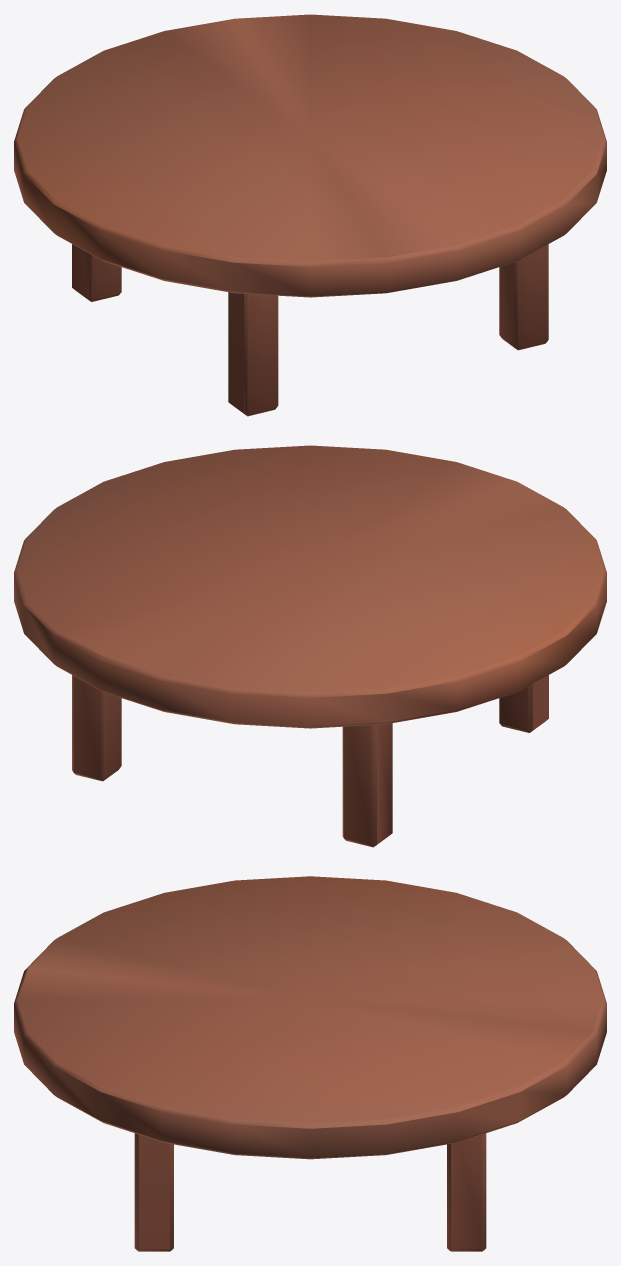
The model's file is kkr.table_round_b.glb.
3 views of the same model, one above another, from view 1: azimuth 30°, elevation 25°; view 2: azimuth 150°, elevation 25°; view 3: azimuth 270°, elevation 25° (orthographic).
Visible parts, largest first — view 1: table_round_B; view 2: table_round_B; view 3: table_round_B.
Boxes of the visible parts, <box> form: table_round_B: <box>14,14,606,416</box>; table_round_B: <box>14,445,606,847</box>; table_round_B: <box>14,876,606,1251</box>.
Bounding box in the file's own units: 2.24 × 0.7449 × 2.24.
Materials: 1 (1 with a texture image).
